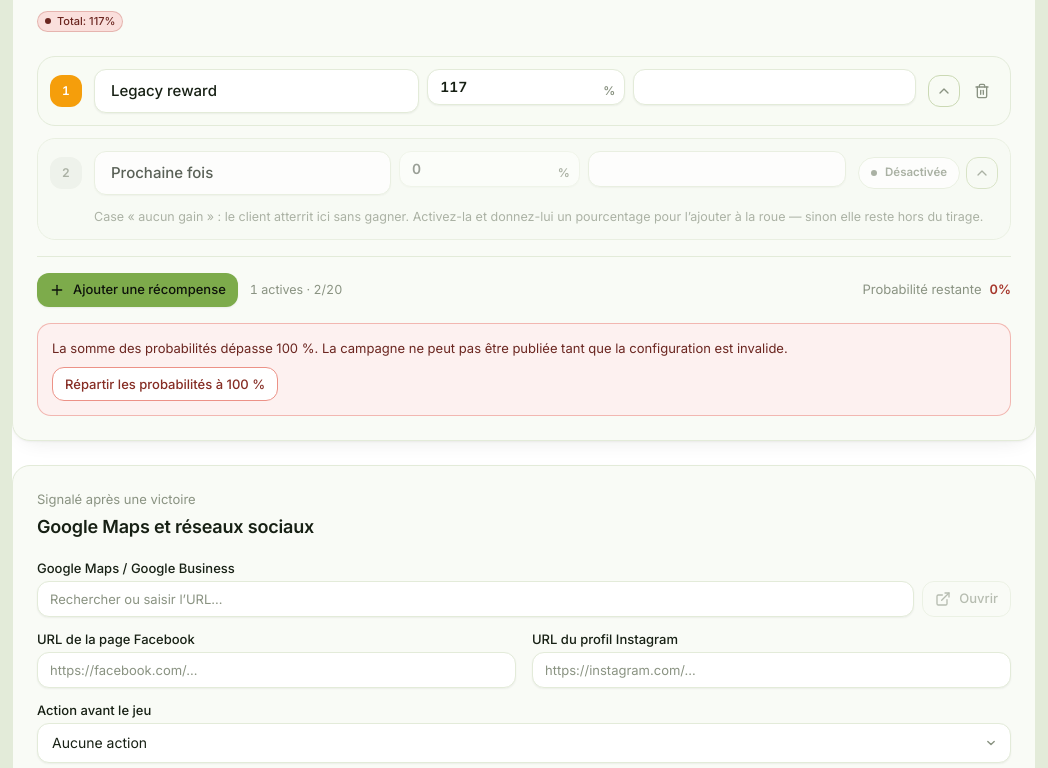
Test case: wheel configuration page › blocks saving for an already-invalid campaign and allows rebalancing it
(page scrolled)
Expected: the text "Total: 117%" is shown, [37,11,123,32]
Click the button "Répartir les probabilités à 100 %": (165, 384) [52,367,278,401]
(page scrolled)
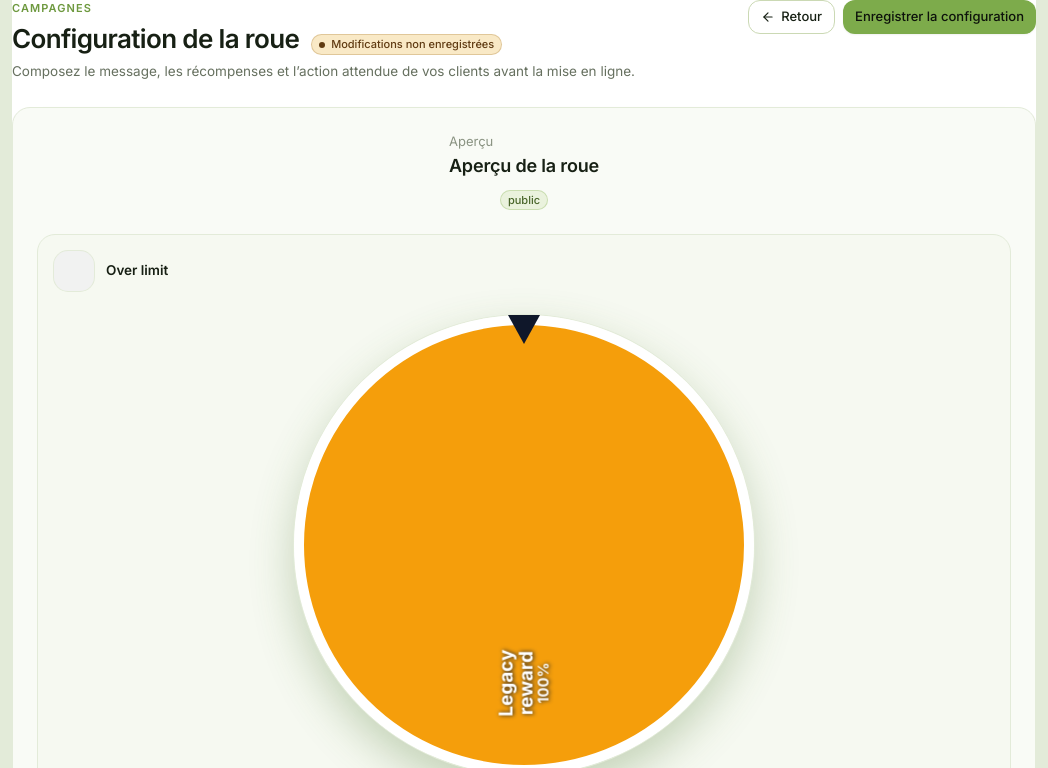
Expected: the button "Enregistrer la configuration" is enabled, [843,0,1036,34]
